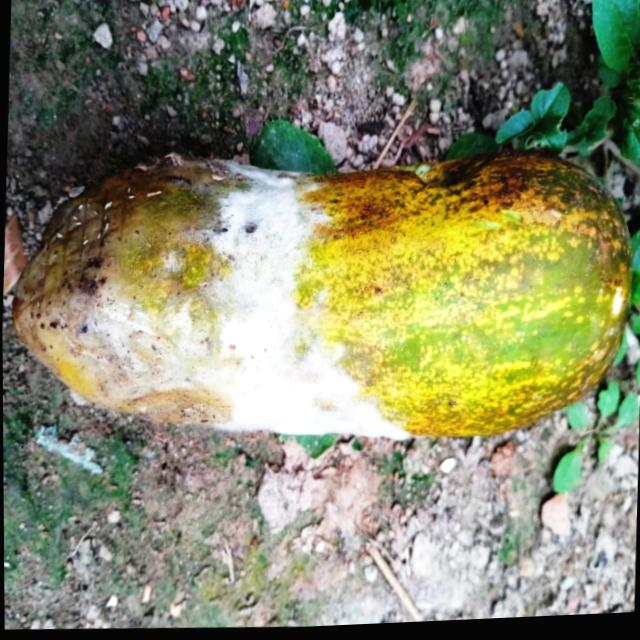Pythium-Fruit-Rot: (33, 146, 416, 459)
